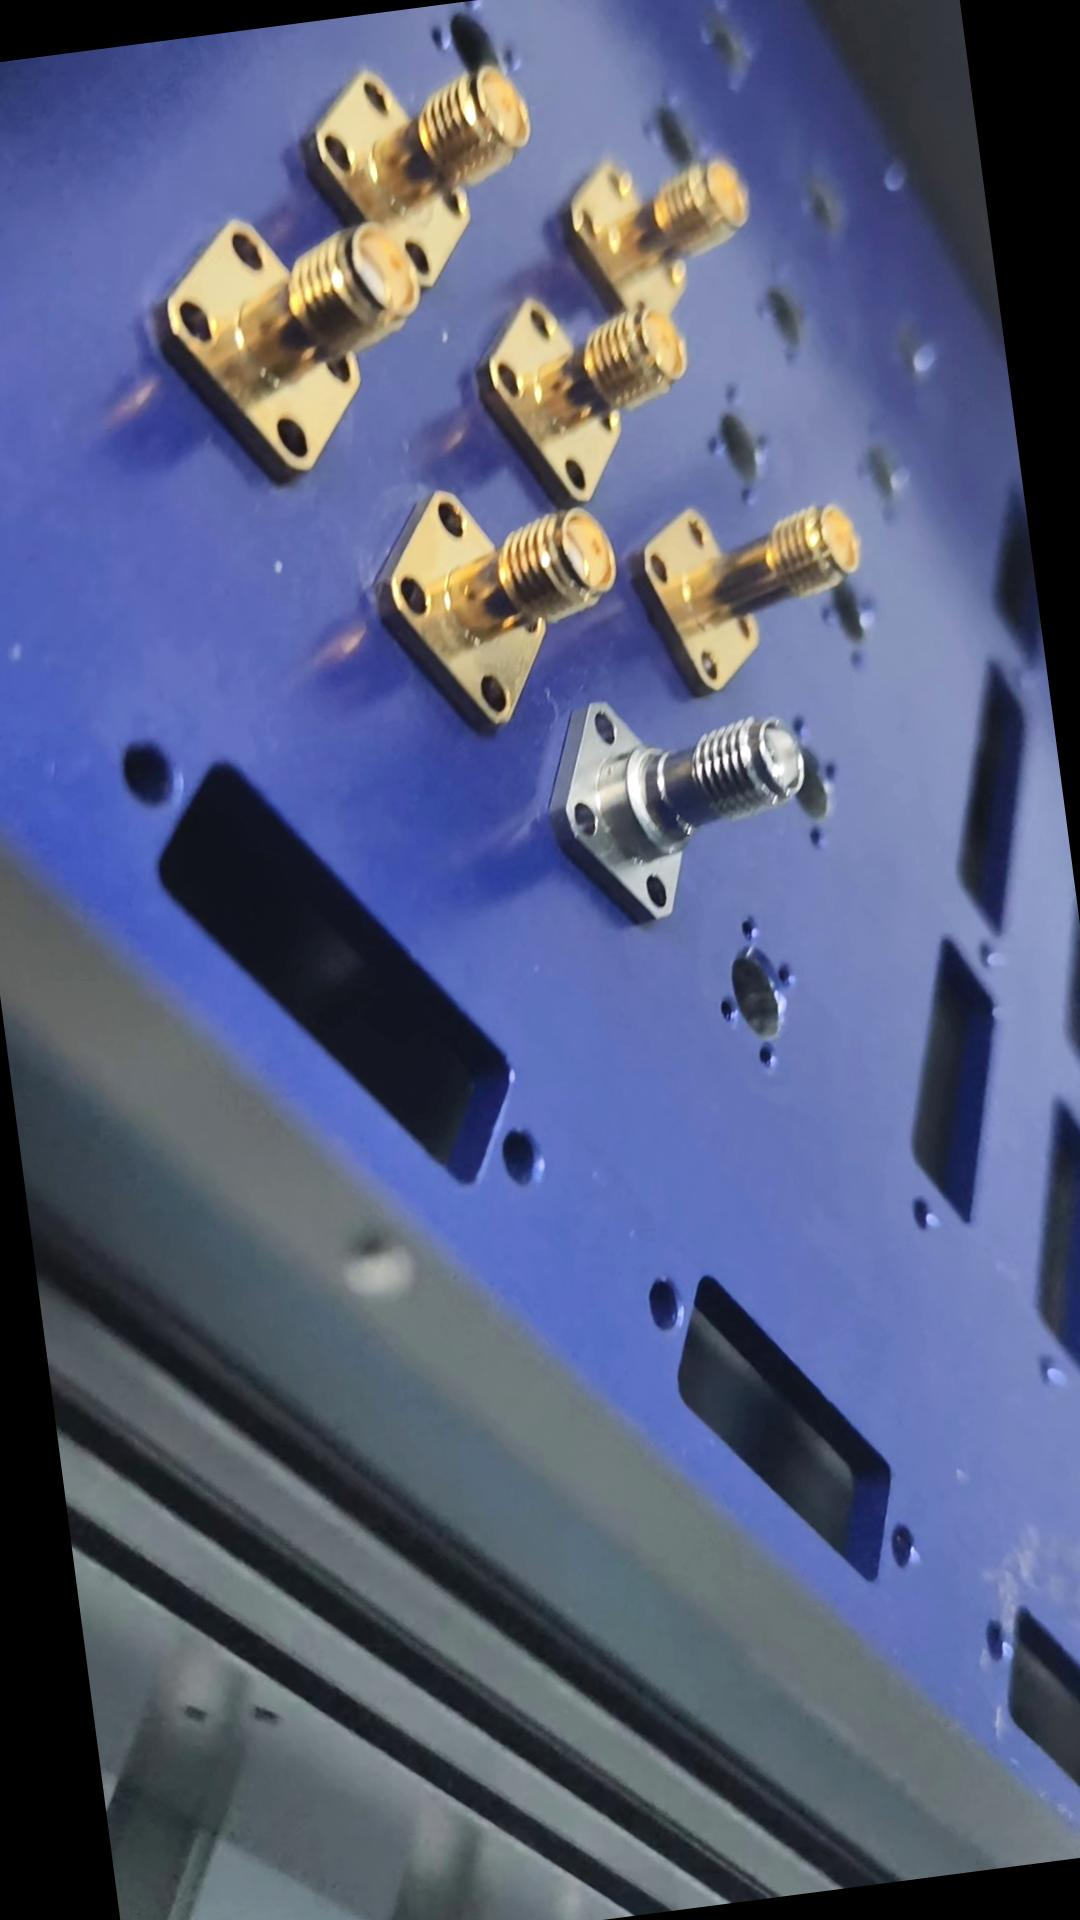SMA: (157, 194, 444, 491), (367, 444, 636, 742), (535, 658, 823, 934), (473, 255, 712, 522), (629, 475, 884, 707)
